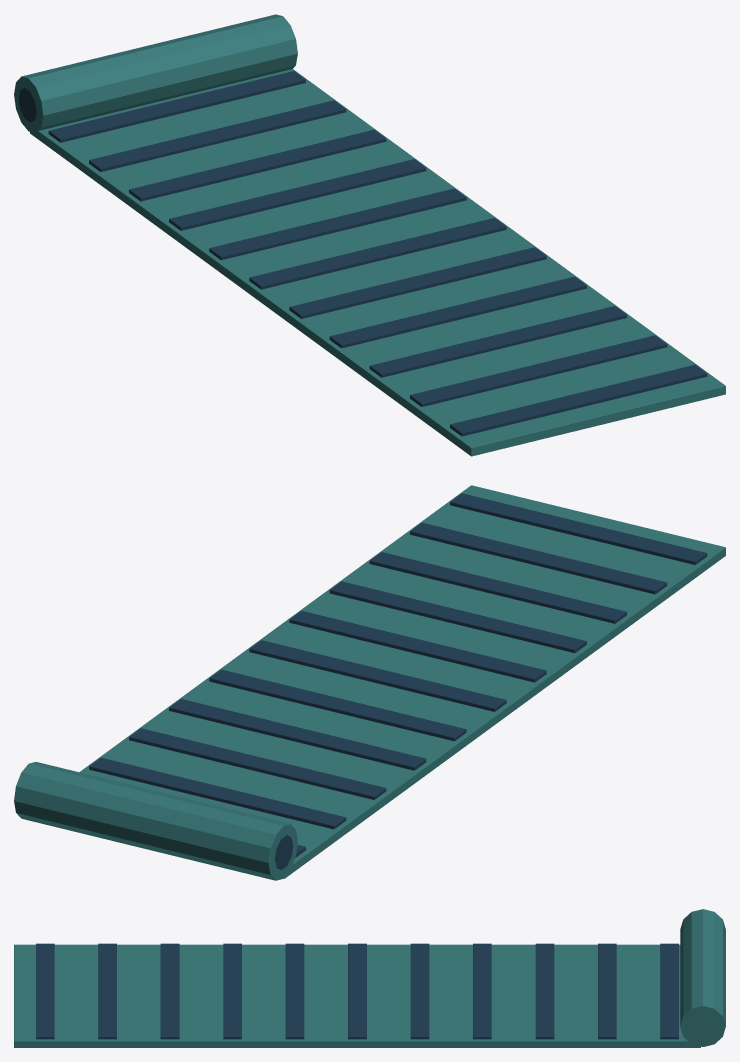
Rendered from b17_ribbed_foam_sleeping_mat.glb.
3 views of the same model, one above another, from view 1: azimuth 30°, elevation 25°; view 2: azimuth 150°, elevation 25°; view 3: azimuth 270°, elevation 25° (orthographic). The views are drawn at different scales.
Visible parts, largest first — view 1: b17_ribbed_foam_sleeping_mat; view 2: b17_ribbed_foam_sleeping_mat; view 3: b17_ribbed_foam_sleeping_mat.
Part boxes in pixels (box(x1,y1,x2,y2)): b17_ribbed_foam_sleeping_mat: box(14, 14, 725, 456); b17_ribbed_foam_sleeping_mat: box(14, 485, 725, 880); b17_ribbed_foam_sleeping_mat: box(14, 909, 725, 1047).
Size of the model in its own units: 0.552 by 0.112 by 1.71.
